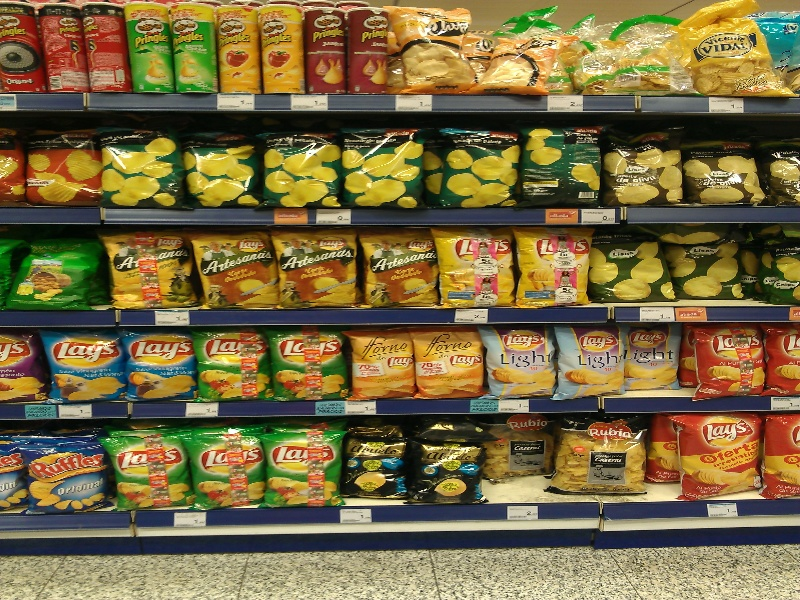chips: (251, 121, 349, 217), (338, 119, 430, 220), (436, 119, 533, 213), (266, 229, 366, 314), (672, 411, 760, 503), (191, 228, 285, 314), (4, 236, 110, 311), (520, 122, 608, 212), (100, 229, 194, 313), (509, 226, 604, 309), (433, 227, 523, 314), (103, 432, 198, 514), (261, 432, 354, 514), (586, 229, 682, 307), (182, 131, 270, 216), (101, 122, 183, 212), (681, 135, 772, 214), (358, 230, 442, 315), (24, 124, 106, 211), (180, 427, 268, 508), (23, 434, 108, 516), (674, 224, 756, 309), (599, 134, 686, 214), (478, 324, 563, 405), (43, 329, 130, 402), (192, 331, 281, 400), (271, 329, 351, 403), (123, 328, 199, 405), (687, 325, 764, 401), (558, 327, 628, 406), (347, 325, 416, 404), (413, 329, 488, 400)
